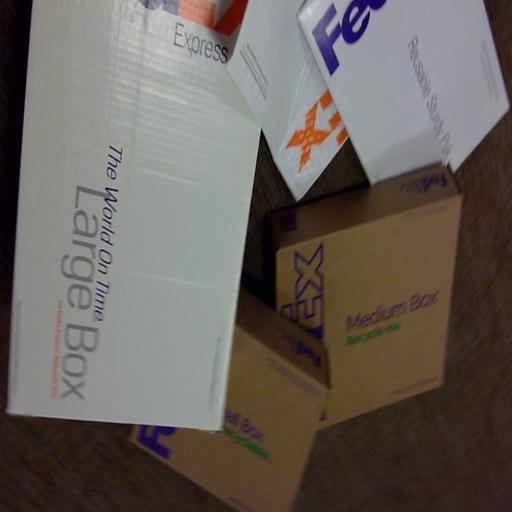Amazon: (0, 0, 237, 415), (274, 190, 465, 429), (147, 287, 316, 510), (309, 0, 511, 186), (224, 0, 365, 205)
